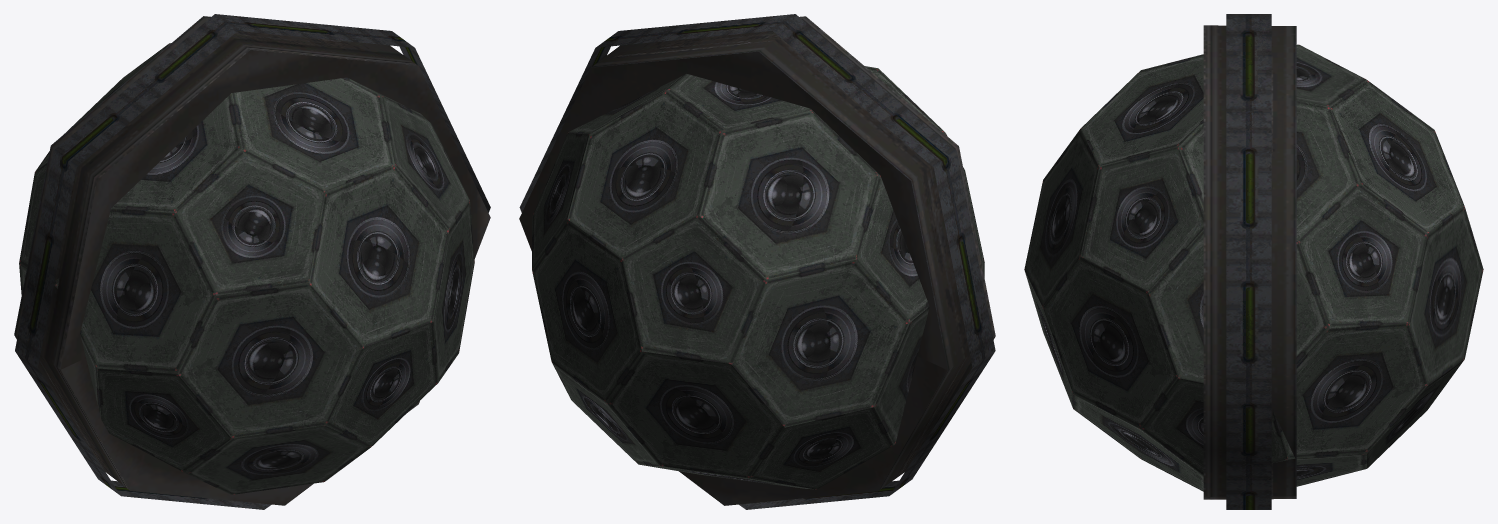
The model's file is t6_wpn_motion_sensor_world_LOD2.obj.
3 renders of one model, left to right at view 1: azimuth 30°, elevation 25°; view 2: azimuth 150°, elevation 25°; view 3: azimuth 270°, elevation 25°, orthographic.
Visible parts, largest first — view 1: mtl_t6_wpn_motion_sensor; view 2: mtl_t6_wpn_motion_sensor; view 3: mtl_t6_wpn_motion_sensor.
Boxes of the visible parts, x1=… form: mtl_t6_wpn_motion_sensor: x1=14, y1=14, x2=490, y2=509; mtl_t6_wpn_motion_sensor: x1=519, y1=14, x2=995, y2=509; mtl_t6_wpn_motion_sensor: x1=1024, y1=14, x2=1483, y2=509.
Size of the model in its own units: 12.89 by 13.21 by 11.48.
